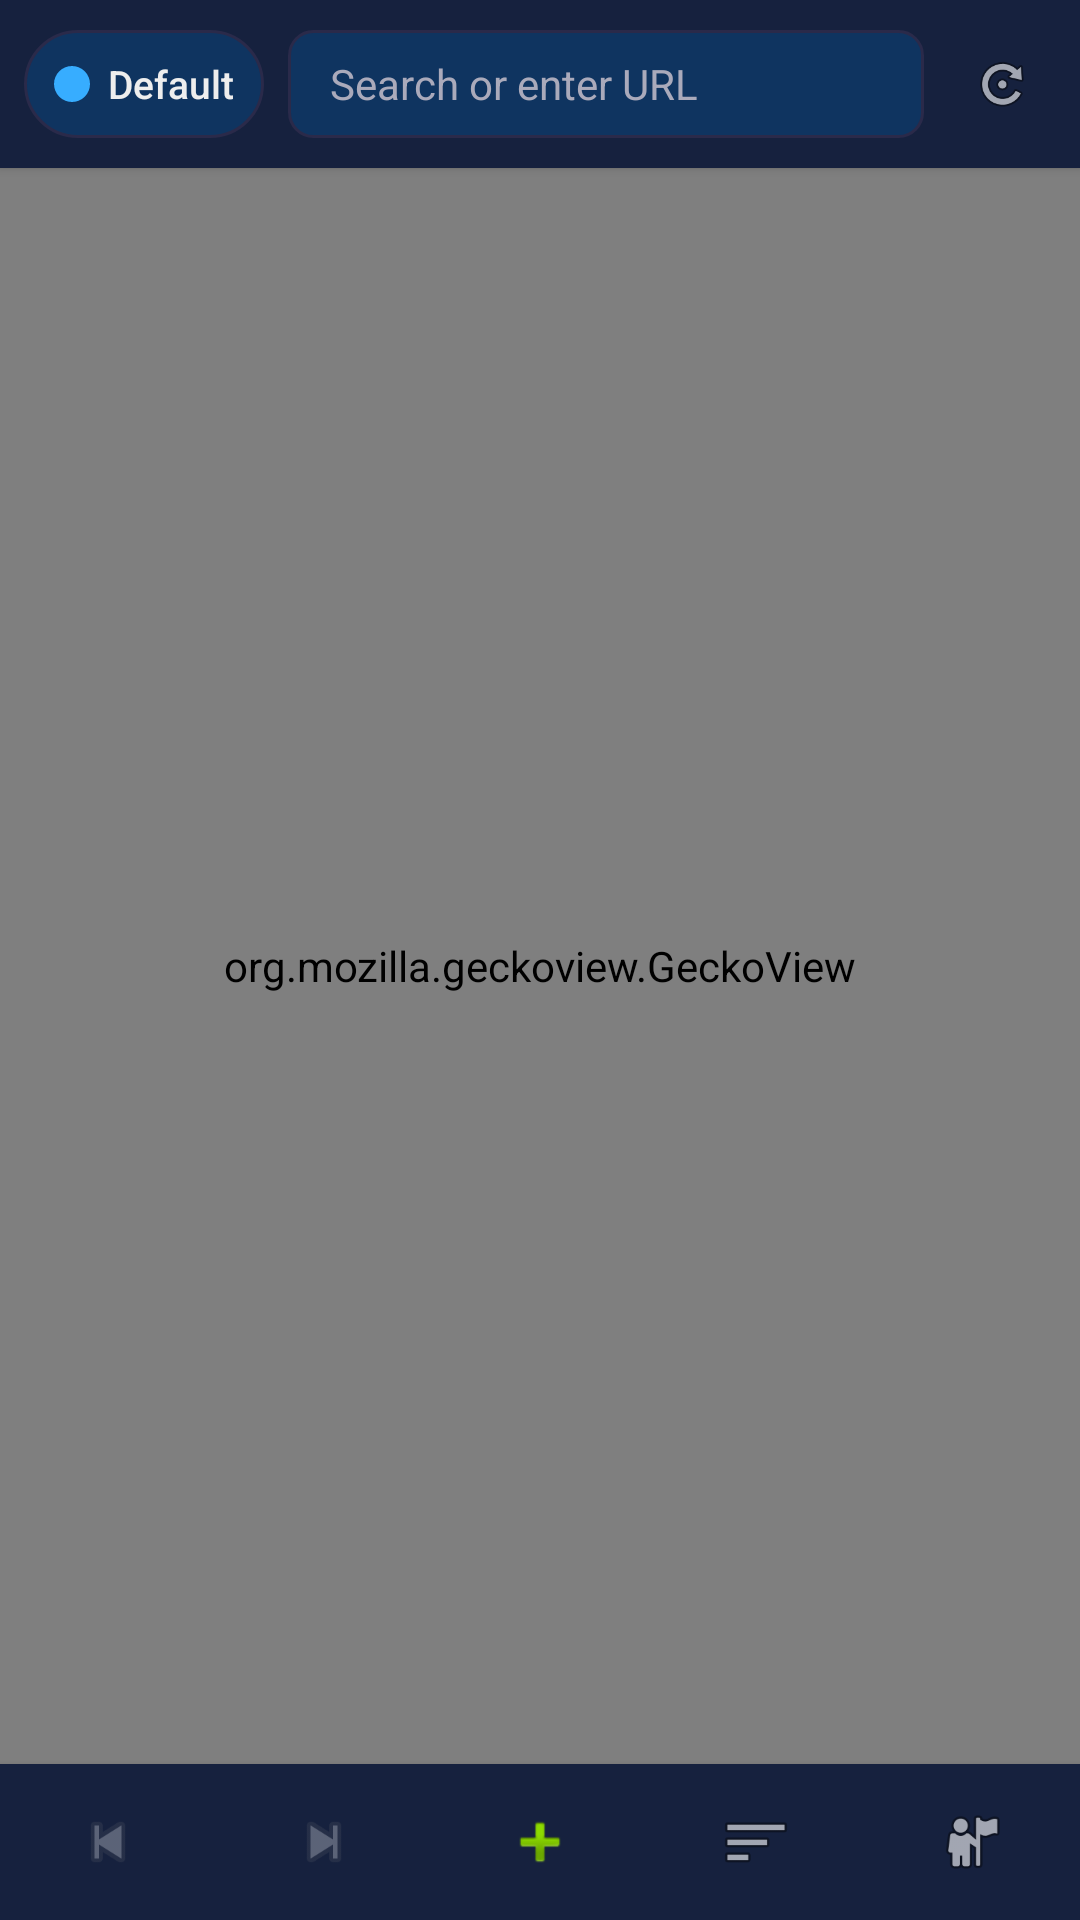

Screen size 1080w x 1920h. Icon name, then its box in pixels as detection(x1, y1, x2, y2):
Back: detection(94, 1825, 122, 1859)
Forward: detection(310, 1825, 338, 1859)
New Tab: detection(520, 1822, 560, 1862)
Reload: detection(981, 62, 1023, 106)
